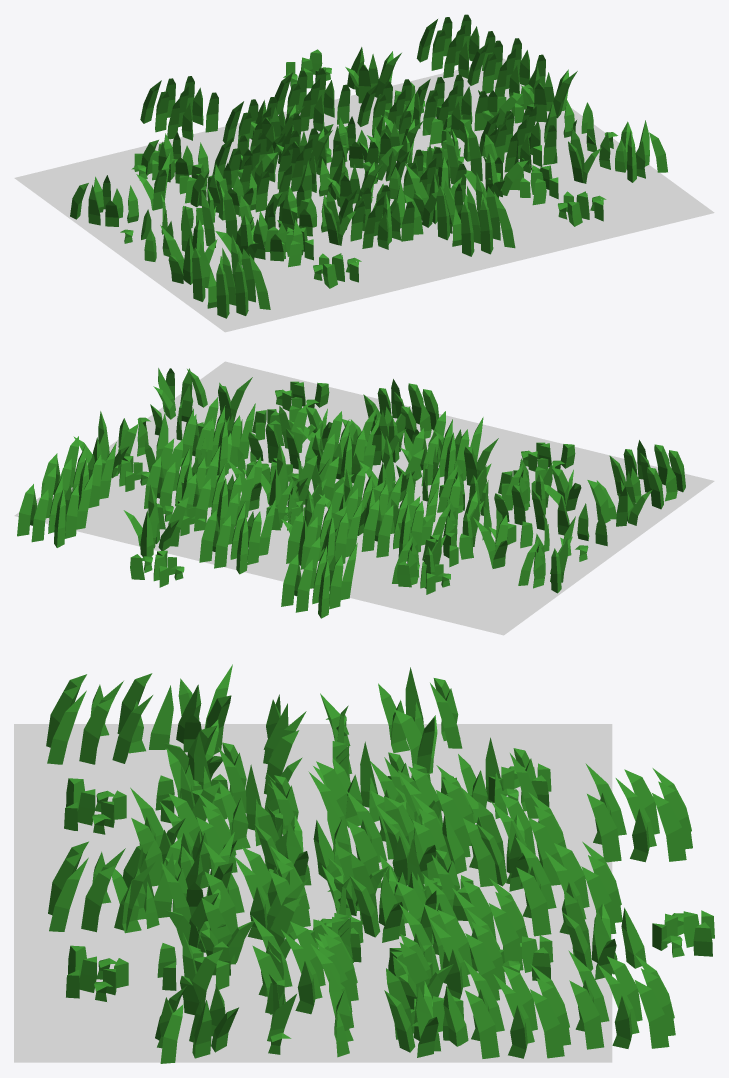
File: FinalGrassPack.fbx
3 views of the same model, one above another, from view 1: azimuth 30°, elevation 25°; view 2: azimuth 150°, elevation 25°; view 3: azimuth 270°, elevation 25° (orthographic). The views are drawn at different scales.
Visible parts, largest first — view 1: Plane.001, GrassBunch7.013, GrassBunch7.012, GrassBunch7.005, GrassBunch7.007, GrassBunch7.006, GrassBunch7, GrassBunch7.003, GrassBunch7.010, GrassBunch7.008, GrassBunch1.007, GrassBunch7.009 (+37 smaller); view 2: Plane.001, GrassBunch7.006, GrassBunch7.005, GrassBunch7.007, GrassBunch7.004, GrassBunch7.013, GrassBunch7.011, GrassBunch7.010, GrassBunch7.008, GrassBunch7, GrassBunch7.003, GrassBunch7.012 (+40 smaller); view 3: Plane.001, GrassBunch7, GrassBunch7.007, GrassBunch7.005, GrassBunch7.006, GrassBunch7.013, GrassBunch7.012, GrassBunch7.009, GrassBunch7.010, GrassBunch7.002, GrassBunch7.011, GrassBunch7.001 (+43 smaller).
Part boxes in pixels (x1,y1,x2,y2): Plane.001: [14, 58, 714, 332]; GrassBunch7.013: [192, 235, 270, 318]; GrassBunch7.012: [436, 173, 515, 256]; GrassBunch7.005: [140, 76, 218, 140]; GrassBunch7.007: [416, 14, 495, 78]; GrassBunch7.006: [274, 68, 350, 131]; GrassBunch7: [467, 38, 545, 96]; GrassBunch7.003: [338, 185, 414, 249]; GrassBunch7.010: [479, 108, 556, 173]; GrassBunch7.008: [357, 79, 435, 137]; GrassBunch1.007: [599, 120, 667, 182]; GrassBunch7.009: [417, 74, 487, 138]; Plane.001: [14, 361, 714, 635]; GrassBunch7.006: [199, 493, 275, 574]; GrassBunch7.005: [281, 537, 357, 618]; GrassBunch7.007: [17, 467, 93, 547]; GrassBunch7.004: [361, 482, 438, 561]; GrassBunch7.013: [609, 440, 685, 509]; GrassBunch7.011: [286, 494, 362, 569]; GrassBunch7.010: [180, 397, 255, 475]; GrassBunch7.008: [182, 456, 255, 532]; GrassBunch7: [41, 436, 116, 509]; GrassBunch7.003: [408, 411, 483, 486]; GrassBunch7.012: [363, 379, 439, 441]; Plane.001: [14, 724, 612, 1062]; GrassBunch7: [464, 960, 570, 1058]; GrassBunch7.007: [568, 950, 675, 1049]; GrassBunch7.005: [585, 763, 692, 862]; GrassBunch7.006: [515, 837, 622, 936]; GrassBunch7.013: [46, 673, 152, 764]; GrassBunch7.012: [48, 840, 154, 932]; GrassBunch7.009: [399, 904, 505, 1000]; GrassBunch7.010: [251, 915, 358, 1014]; GrassBunch7.002: [204, 842, 310, 939]; GrassBunch7.011: [462, 788, 566, 886]; GrassBunch7.001: [346, 790, 449, 888].
Size of what is drawn, in the model's own units: 677 by 67.47 by 586.
